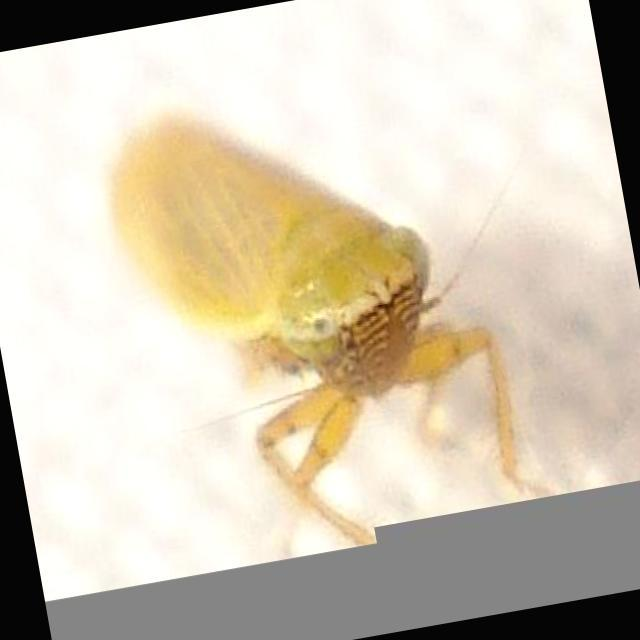green leaf hopper: (113, 122, 515, 543)
